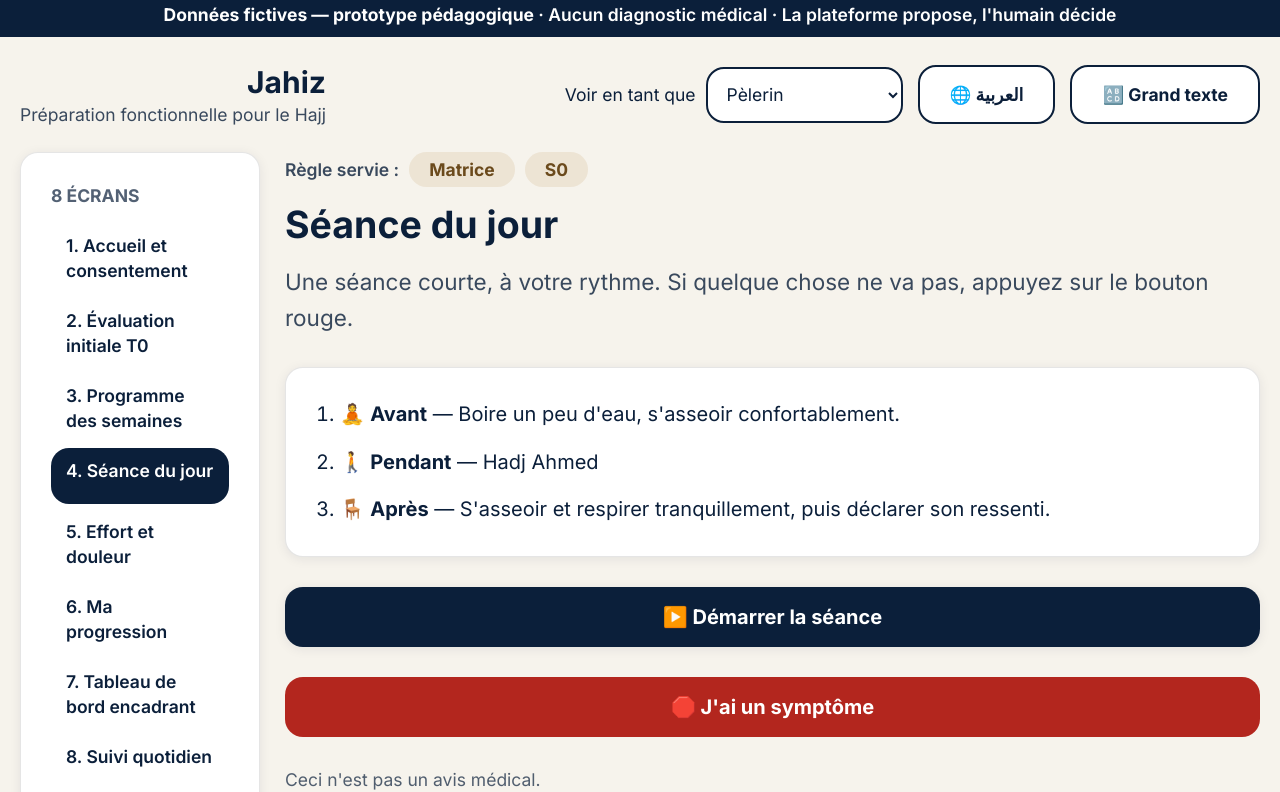
Critère d’arrêt immédiat (S0) › un vertige ouvre l’écran rouge et ne se lève que par un humain
Click the button "🛑 J'ai un symptôme" at coordinates (772, 706), box left=285, top=676, right=1260, bottom=736
(page scrolled)
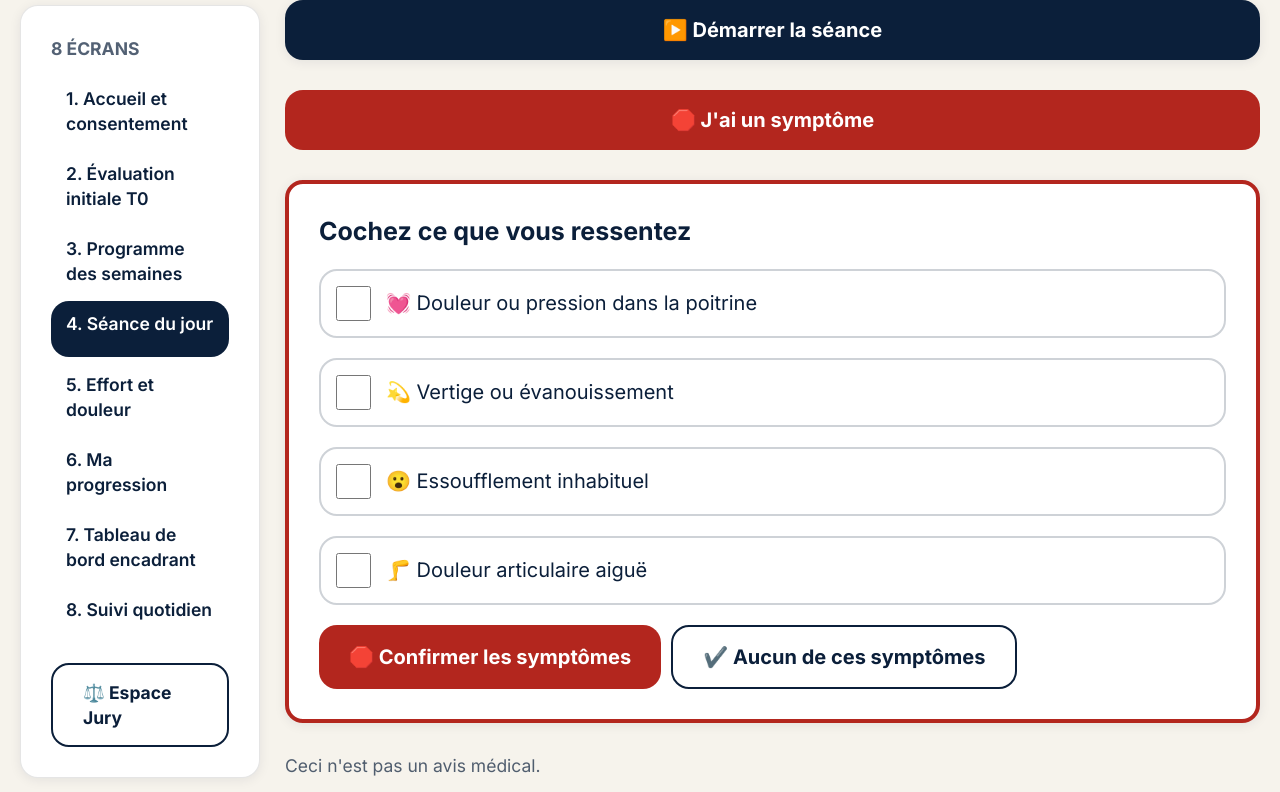
Click the checkbox labelled "💫 Vertige ou évanouissement" at coordinates (354, 392), box left=336, top=374, right=371, bottom=410
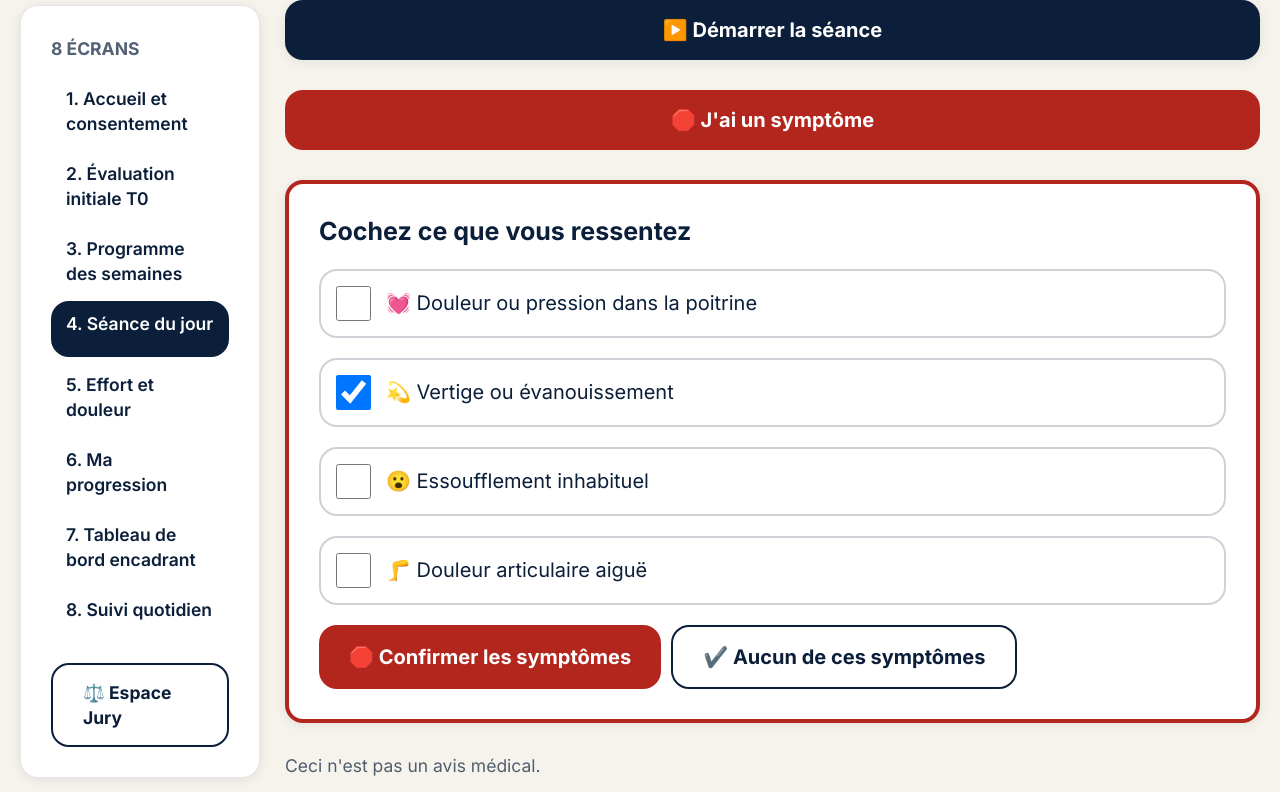
Click the button "🛑 Confirmer les symptômes" at coordinates (490, 656), box left=319, top=624, right=661, bottom=688
(page scrolled)
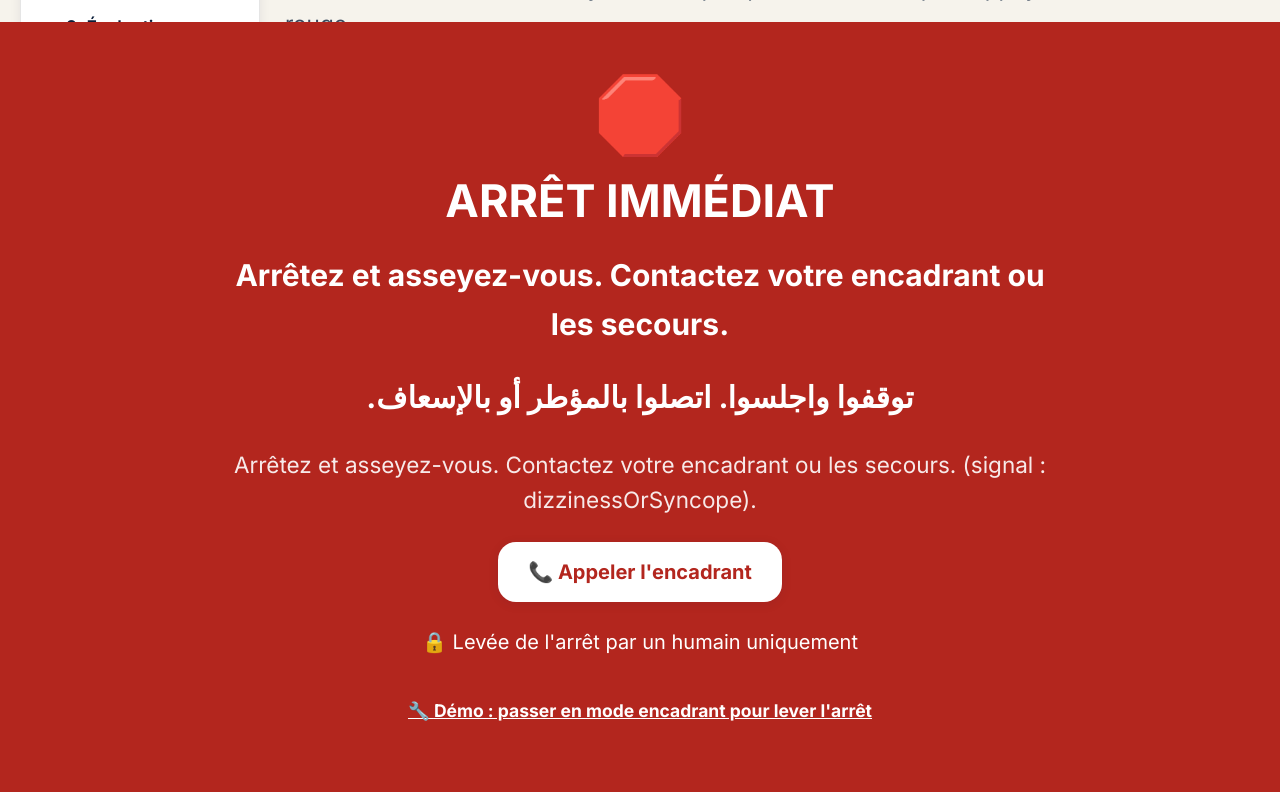
Expected: the dialog with test id "arret-plein-ecran" is shown
Click the button "🔧 Démo : passer en mode encadrant pour lever l'arrêt" at coordinates (640, 710), box left=388, top=682, right=892, bottom=738
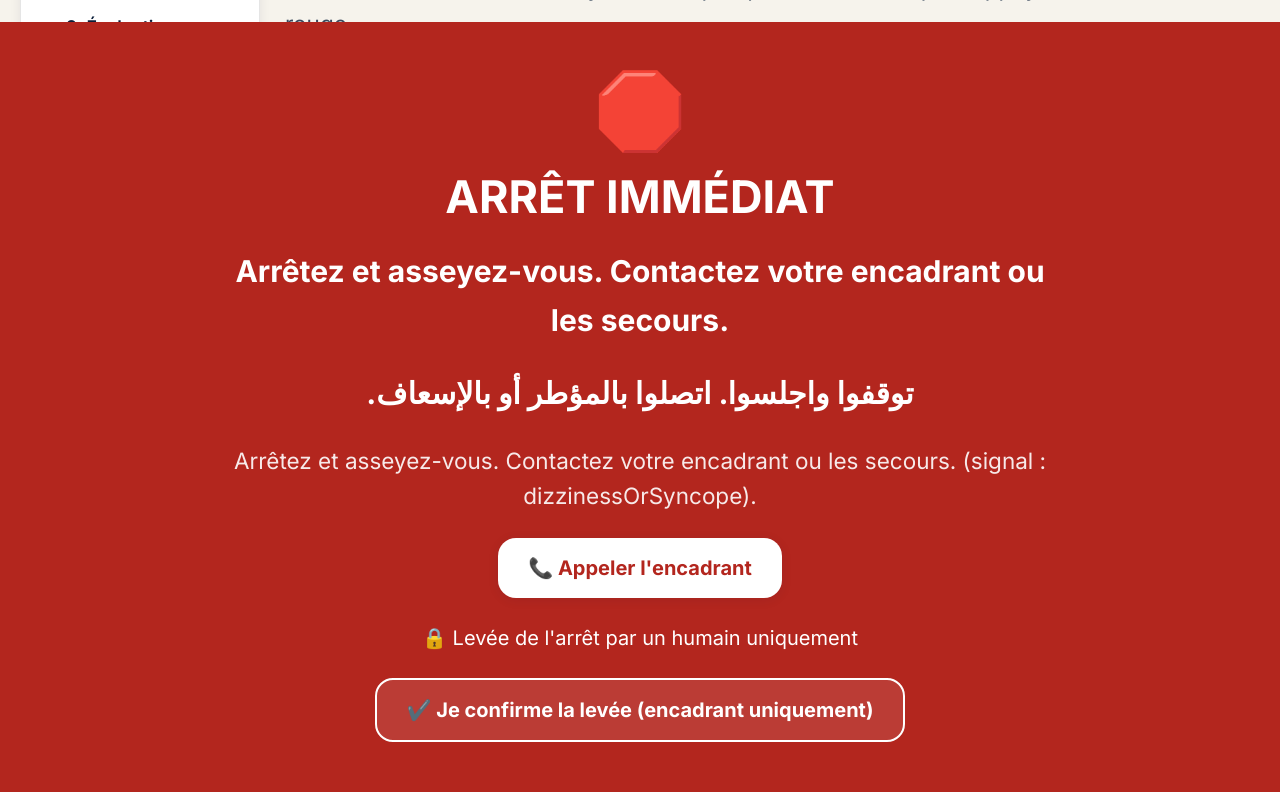
Click the button "✔️ Je confirme la levée (encadrant uniquement)" at coordinates (640, 710), box left=374, top=678, right=906, bottom=742
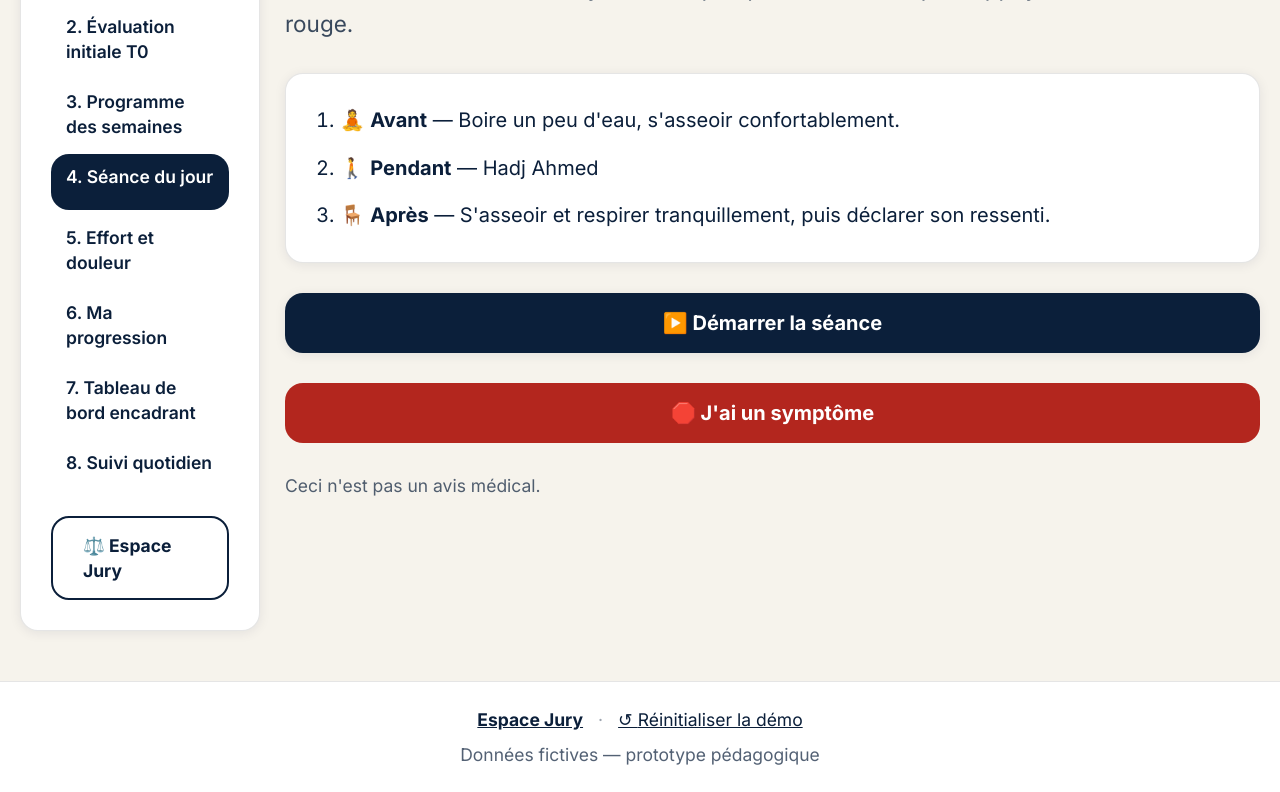
Expected: the dialog with test id "arret-plein-ecran" is gone
